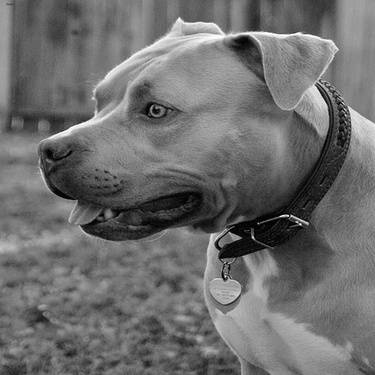dog: (34, 12, 370, 373)
